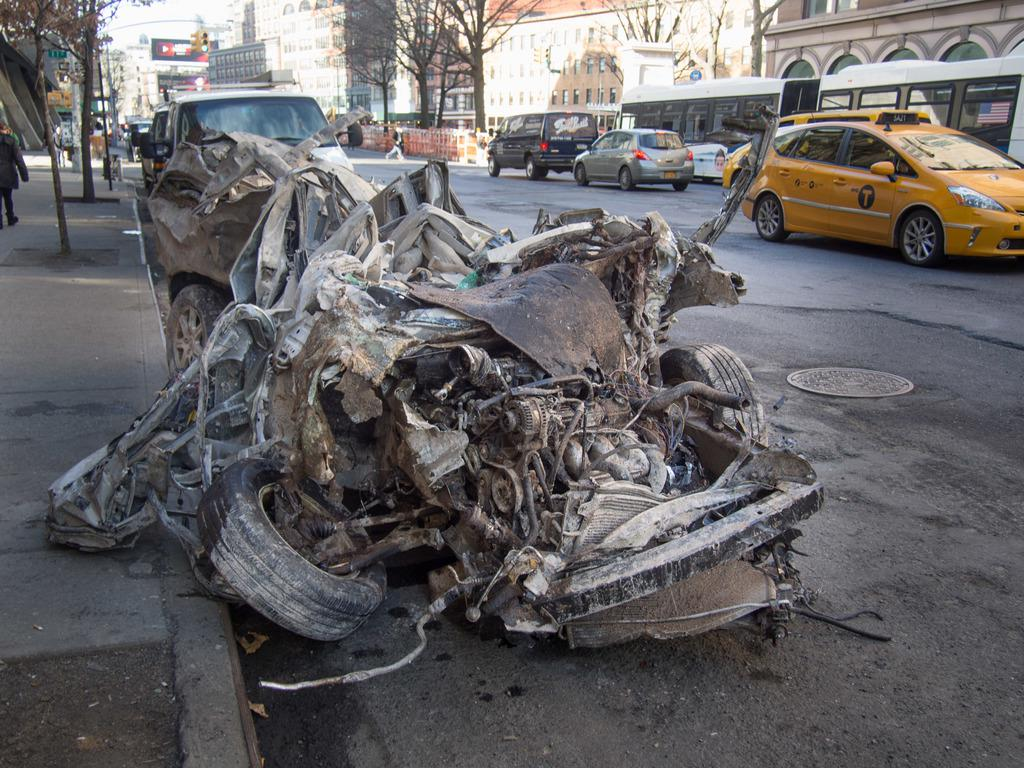taxi: (723, 111, 1024, 267)
